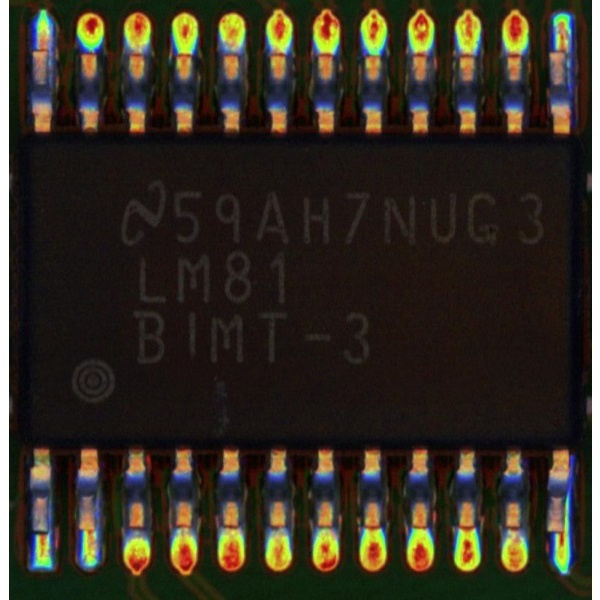Bad_podu: (507, 515, 521, 547), (553, 35, 565, 61), (35, 40, 49, 61), (38, 524, 48, 553), (84, 523, 95, 545), (554, 525, 563, 541)
Bad_qiaojiao: (562, 492, 568, 531)
